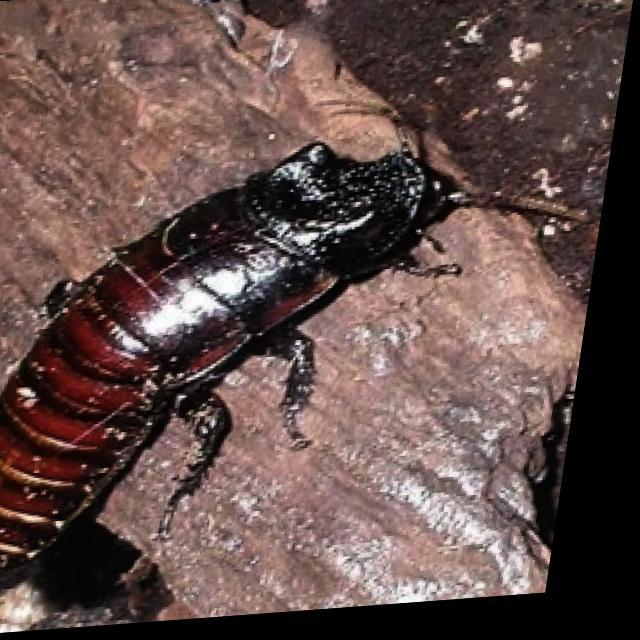cockroach: (0, 111, 590, 591)
